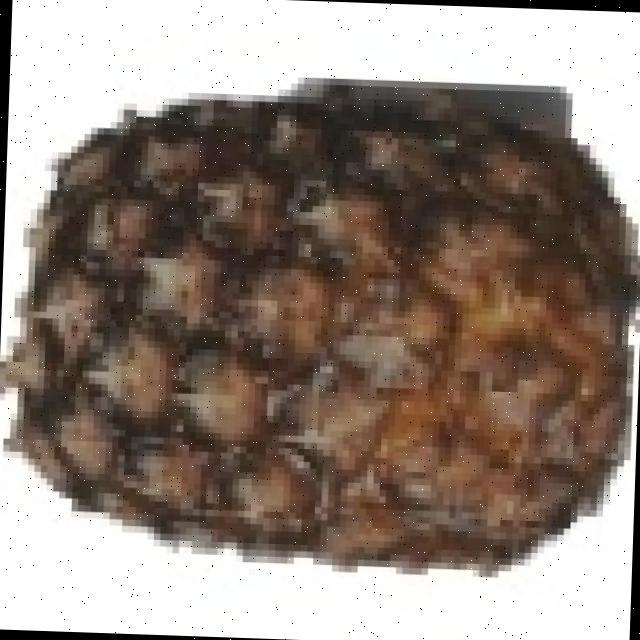pineapple: (1, 102, 616, 582)
